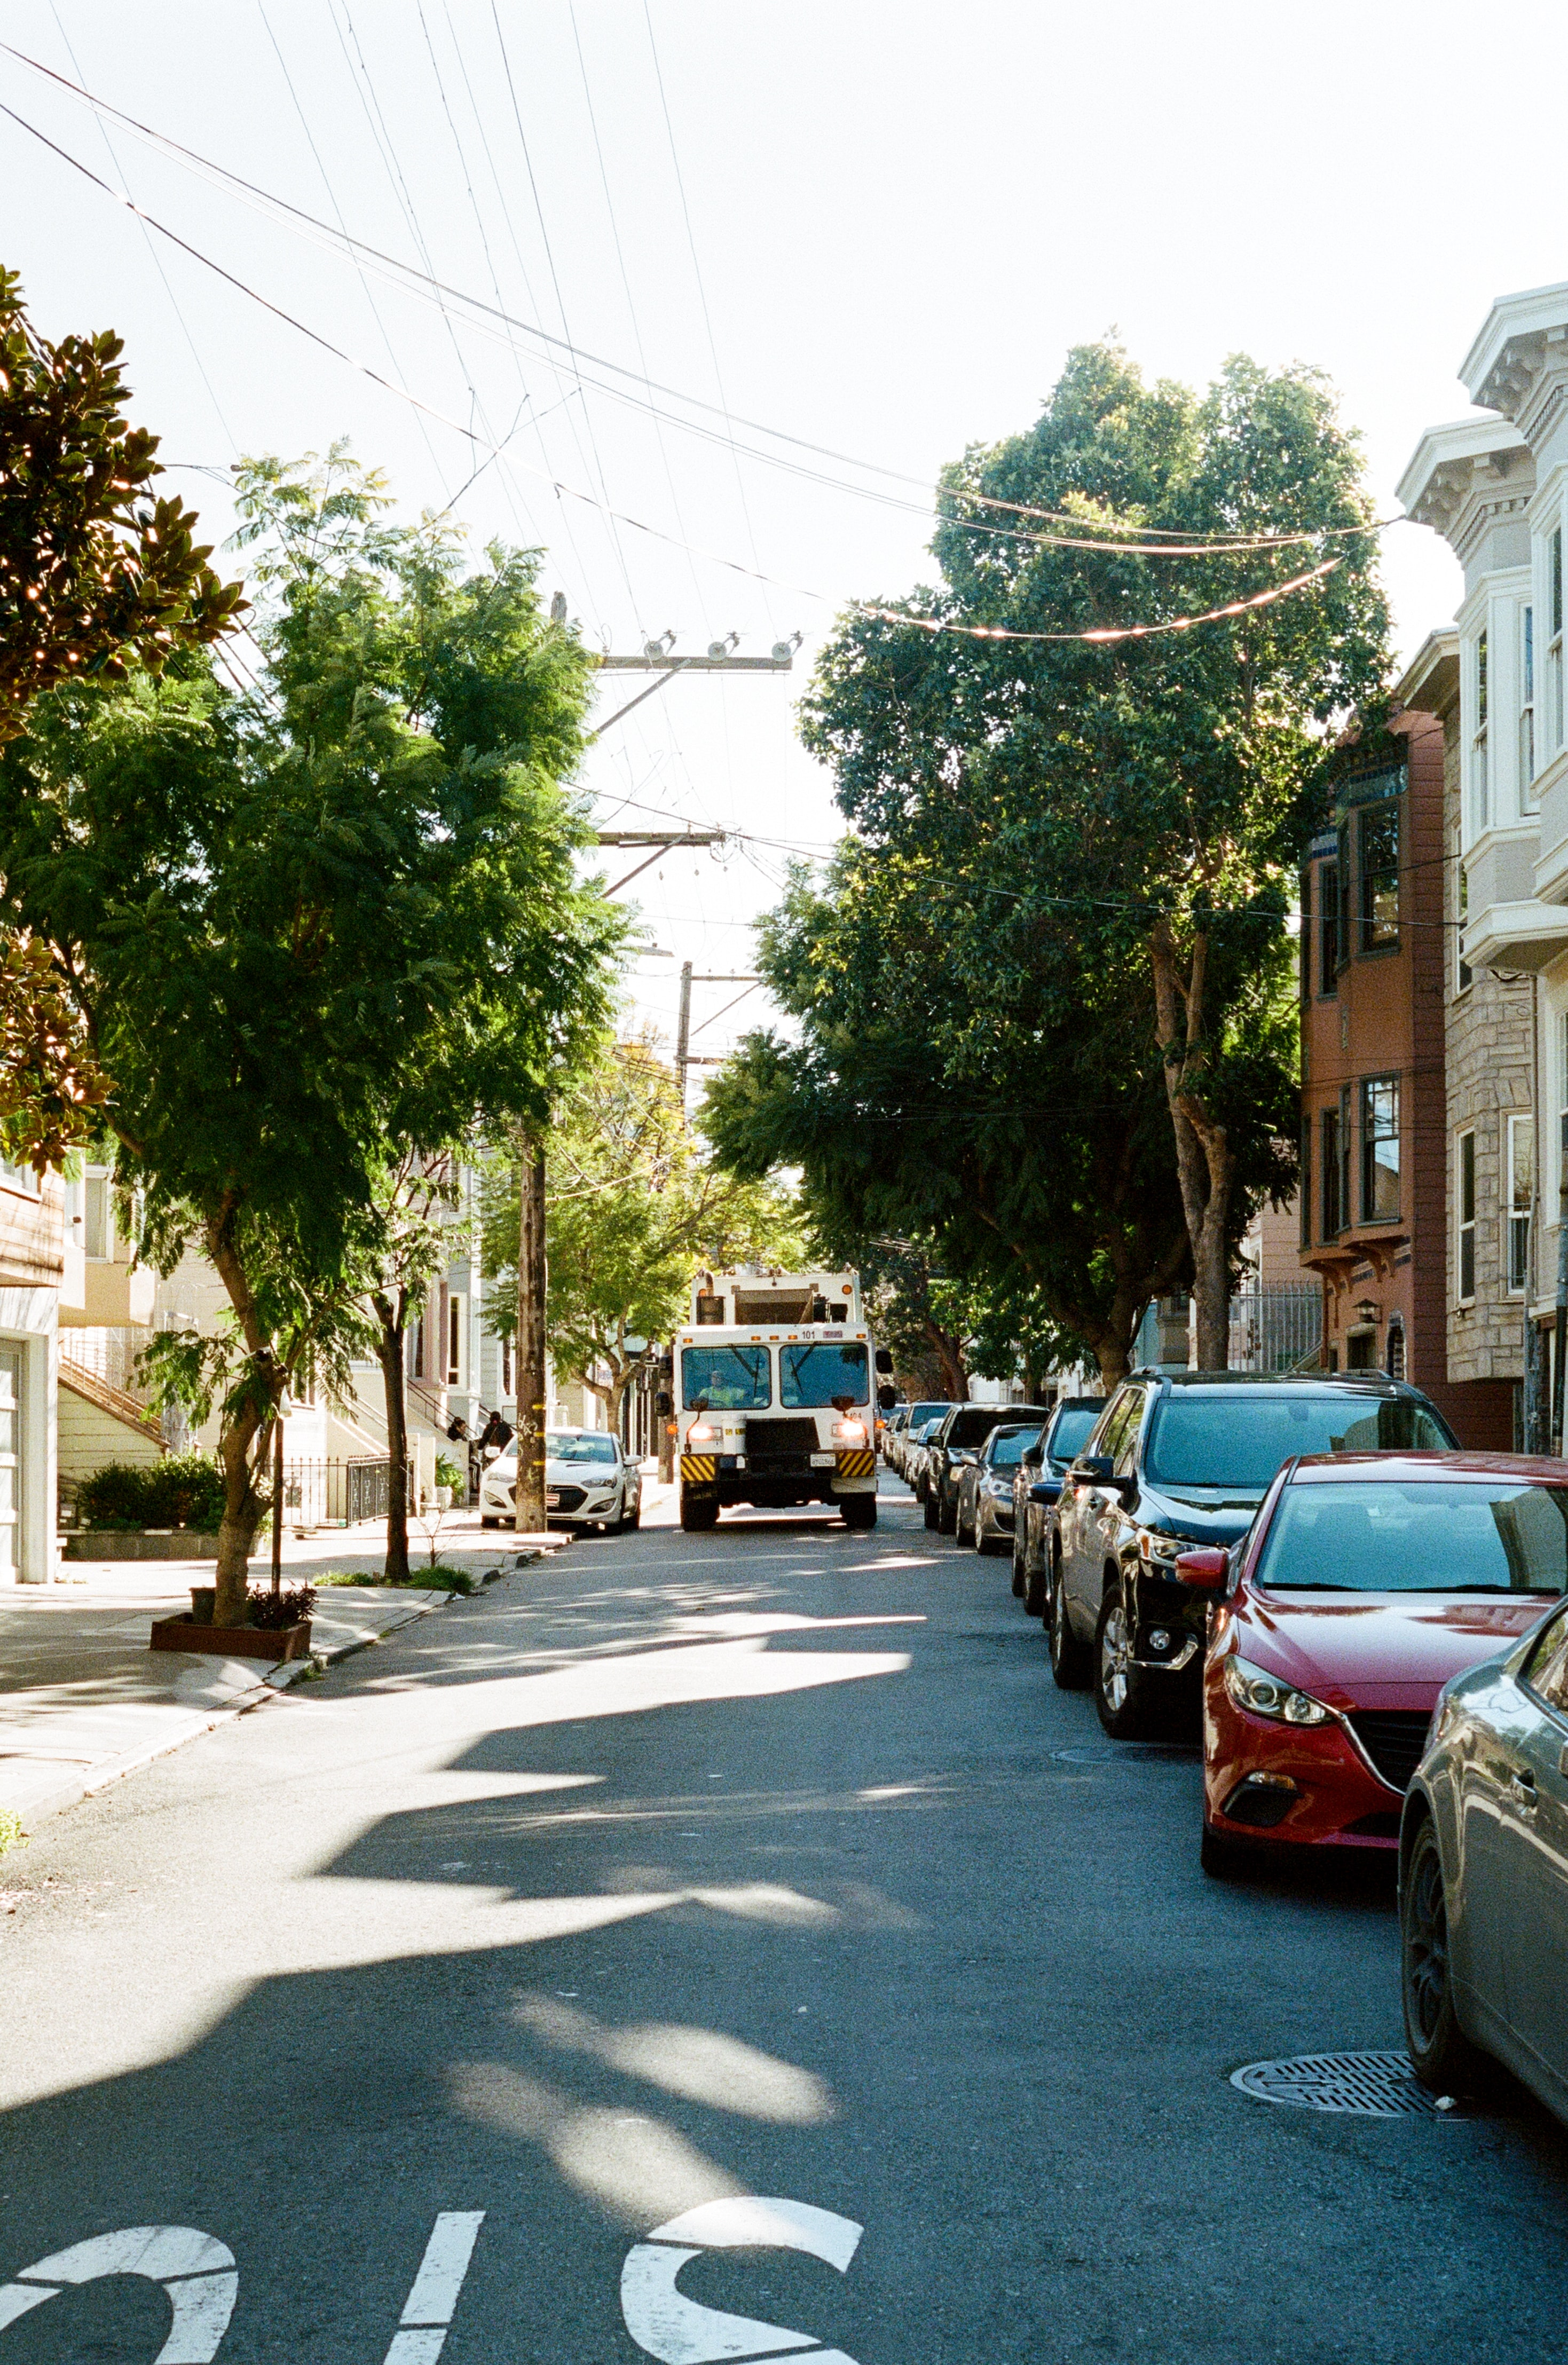tree: (0, 534, 644, 1632), (796, 324, 1402, 1380)
